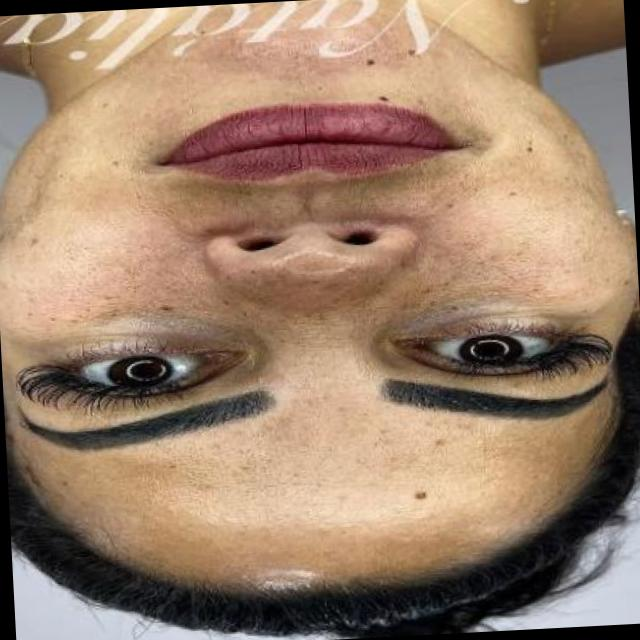melasma: (11, 416, 611, 577), (351, 102, 604, 331), (1, 161, 207, 350), (219, 246, 388, 335)
